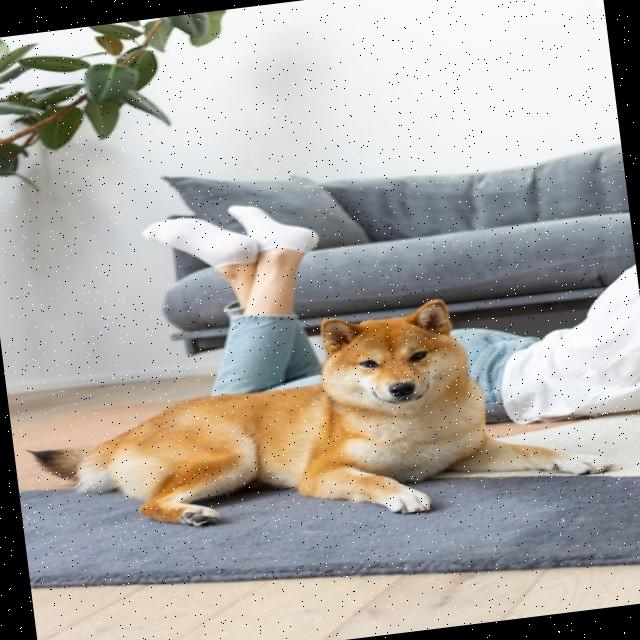Dog: (16, 279, 618, 559)
